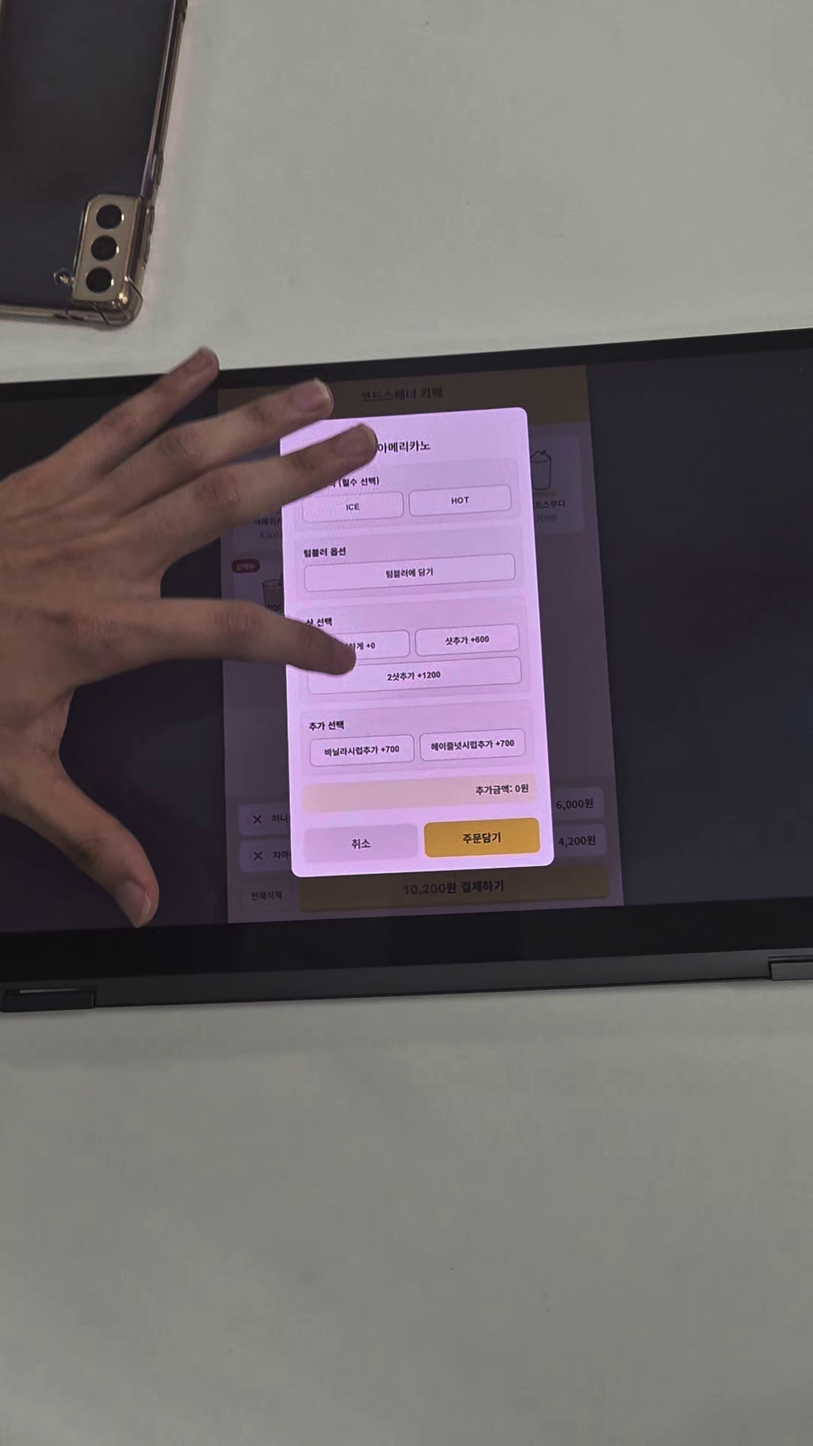action_button: (300, 864, 613, 911), (424, 817, 541, 858), (303, 823, 419, 864), (241, 878, 293, 911)
menu_price: (554, 798, 595, 812), (557, 834, 597, 848)
option_button: (305, 553, 515, 593), (308, 657, 521, 695), (420, 729, 526, 761), (310, 735, 415, 767), (416, 624, 519, 655), (302, 491, 404, 522), (409, 485, 511, 515), (309, 630, 410, 660)
popup_modal: (279, 407, 555, 878)
